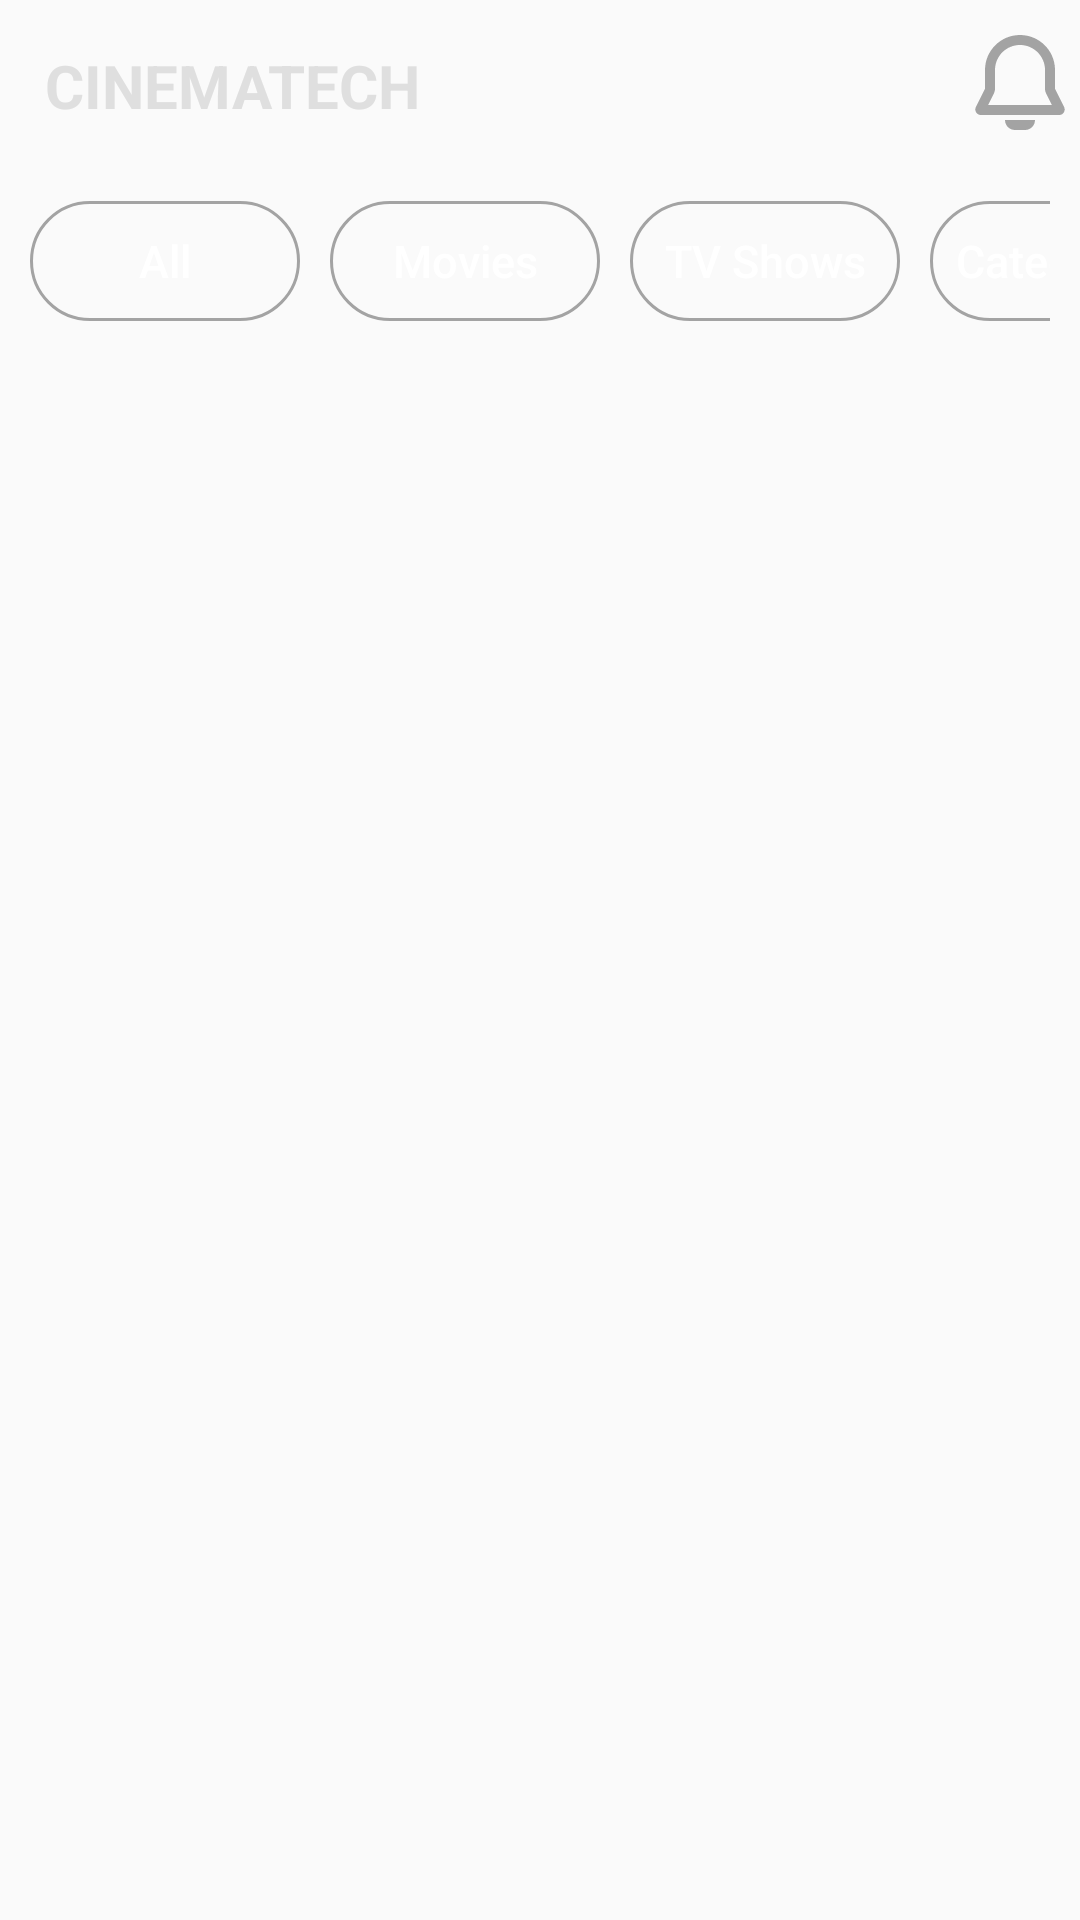

Icon click points for this 1080px×1920px phone screenshot, format [x,y]:
notification: [1020,82]
